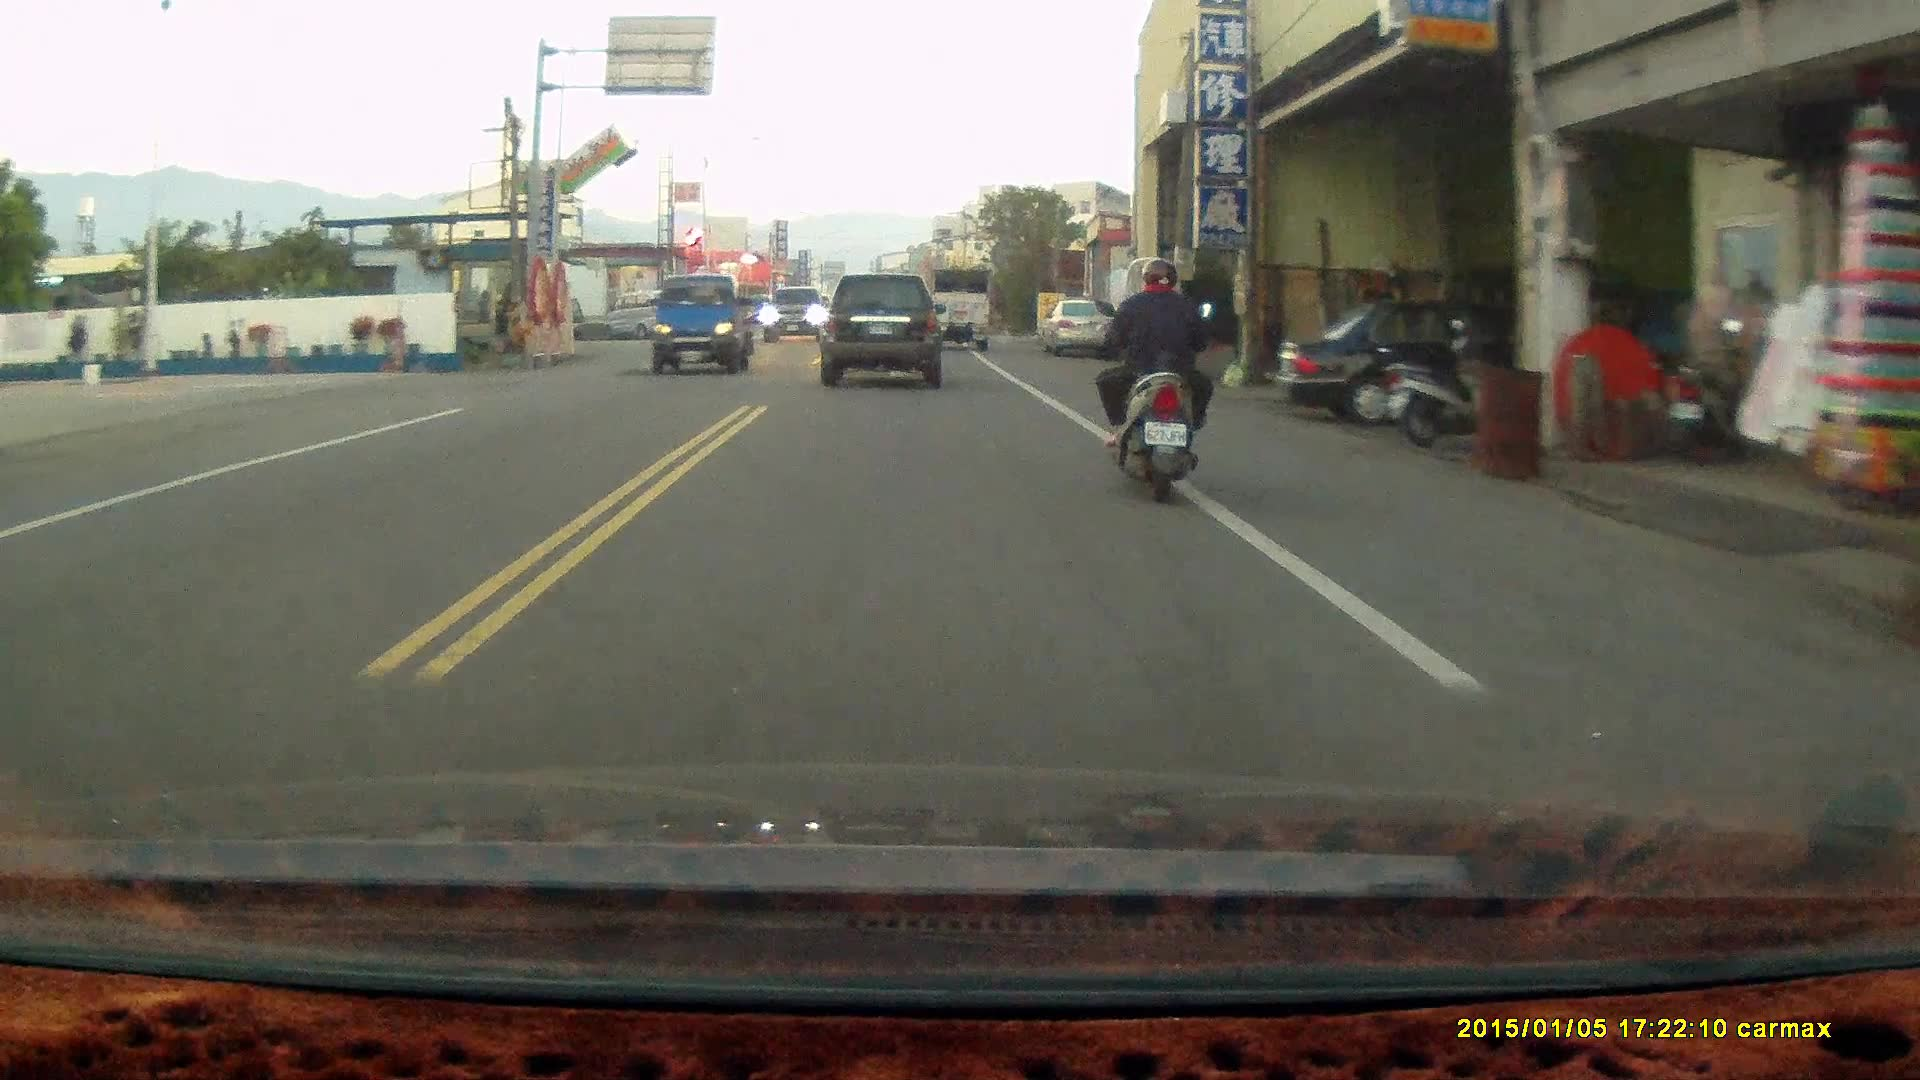rider: (1095, 259, 1215, 508)
vehicle: (1269, 290, 1573, 425), (825, 273, 943, 389), (648, 273, 765, 376), (925, 270, 994, 354), (1043, 292, 1126, 358), (603, 291, 693, 337), (763, 285, 826, 341)
